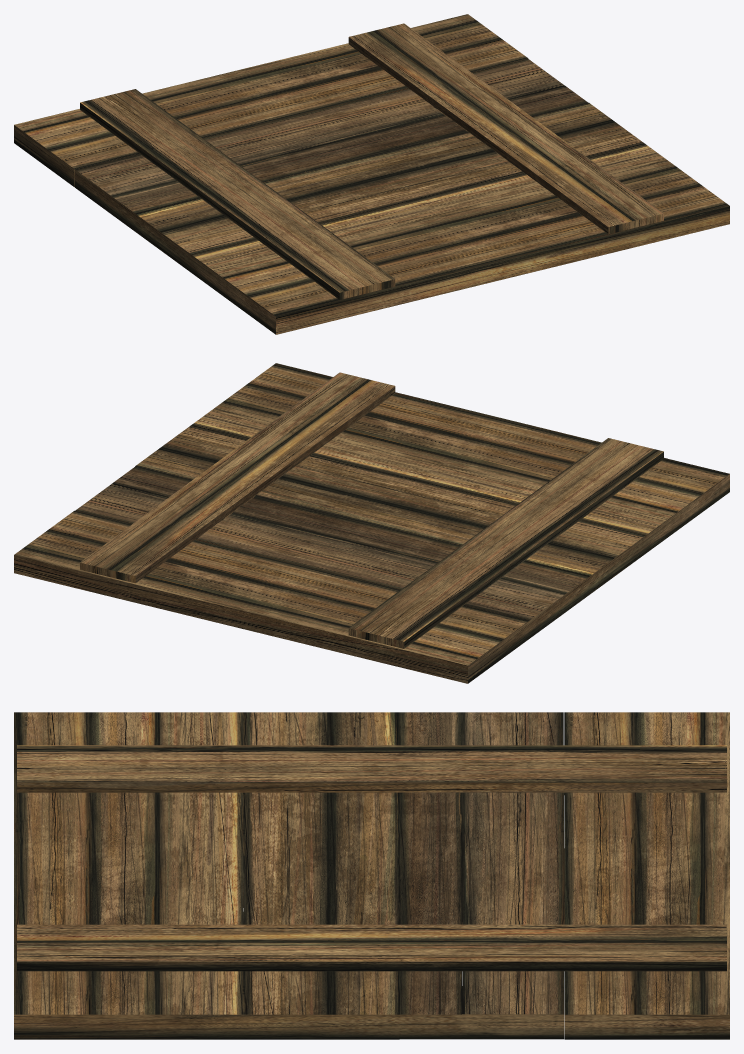
File: WoodenCrate_Top_fragments.FBX
3 renders of one model, top to bottom at view 1: azimuth 30°, elevation 25°; view 2: azimuth 150°, elevation 25°; view 3: azimuth 270°, elevation 25°, orthographic. The views are drawn at different scales.
Parts seen in each view (by area): view 1: LP_Deckel_001_frag_003_frag_004, LP_Deckel_001_frag_001, LP_Deckel_001_frag_002, LP_Deckel_001_frag_003_frag_007, LP_Deckel_001_frag_003_frag_012, LP_Deckel_001_frag_003_frag_010_frag_002, LP_Deckel_001_frag_003_frag_016_frag_002, LP_Deckel_001_frag_003_frag_014_frag_002, LP_Deckel_001_frag_003_frag_011_frag_002, LP_Deckel_001_frag_003_frag_010_frag_001, LP_Deckel_001_frag_003_frag_017_frag_002, LP_Deckel_001_frag_003_frag_003_frag_002 (+6 smaller); view 2: LP_Deckel_001_frag_001, LP_Deckel_001_frag_002, LP_Deckel_001_frag_003_frag_008, LP_Deckel_001_frag_003_frag_004, LP_Deckel_001_frag_003_frag_007, LP_Deckel_001_frag_003_frag_012, LP_Deckel_001_frag_003_frag_010_frag_002, LP_Deckel_001_frag_003_frag_016_frag_002, LP_Deckel_001_frag_003_frag_014_frag_002, LP_Deckel_001_frag_003_frag_011_frag_002, LP_Deckel_001_frag_003_frag_010_frag_001, LP_Deckel_001_frag_003_frag_017_frag_002 (+6 smaller); view 3: LP_Deckel_001_frag_001, LP_Deckel_001_frag_002, LP_Deckel_001_frag_003_frag_004, LP_Deckel_001_frag_003_frag_007, LP_Deckel_001_frag_003_frag_012, LP_Deckel_001_frag_003_frag_010_frag_001, LP_Deckel_001_frag_003_frag_010_frag_002, LP_Deckel_001_frag_003_frag_016_frag_002, LP_Deckel_001_frag_003_frag_014_frag_002, LP_Deckel_001_frag_003_frag_014_frag_001, LP_Deckel_001_frag_003_frag_011_frag_002, LP_Deckel_001_frag_003_frag_016_frag_001 (+6 smaller).
Boxes of the visible parts, bbox=[...] form: LP_Deckel_001_frag_003_frag_004: bbox=[248, 185, 729, 334]; LP_Deckel_001_frag_001: bbox=[76, 89, 399, 301]; LP_Deckel_001_frag_002: bbox=[348, 23, 663, 234]; LP_Deckel_001_frag_003_frag_007: bbox=[24, 21, 502, 168]; LP_Deckel_001_frag_003_frag_012: bbox=[224, 167, 701, 313]; LP_Deckel_001_frag_003_frag_010_frag_002: bbox=[75, 110, 354, 214]; LP_Deckel_001_frag_003_frag_016_frag_002: bbox=[161, 169, 457, 272]; LP_Deckel_001_frag_003_frag_014_frag_002: bbox=[192, 192, 480, 296]; LP_Deckel_001_frag_003_frag_011_frag_002: bbox=[49, 80, 341, 187]; LP_Deckel_001_frag_003_frag_010_frag_001: bbox=[303, 58, 564, 141]; LP_Deckel_001_frag_003_frag_017_frag_002: bbox=[135, 152, 400, 250]; LP_Deckel_001_frag_003_frag_003_frag_002: bbox=[112, 142, 385, 231]; LP_Deckel_001_frag_001: bbox=[344, 438, 667, 650]; LP_Deckel_001_frag_002: bbox=[80, 372, 395, 583]; LP_Deckel_001_frag_003_frag_008: bbox=[14, 547, 477, 683]; LP_Deckel_001_frag_003_frag_004: bbox=[248, 363, 729, 511]; LP_Deckel_001_frag_003_frag_007: bbox=[24, 529, 502, 675]; LP_Deckel_001_frag_003_frag_012: bbox=[224, 384, 701, 529]; LP_Deckel_001_frag_003_frag_010_frag_002: bbox=[275, 539, 565, 638]; LP_Deckel_001_frag_003_frag_016_frag_002: bbox=[349, 473, 645, 575]; LP_Deckel_001_frag_003_frag_014_frag_002: bbox=[390, 451, 677, 553]; LP_Deckel_001_frag_003_frag_011_frag_002: bbox=[215, 560, 528, 657]; LP_Deckel_001_frag_003_frag_010_frag_001: bbox=[75, 483, 340, 562]; LP_Deckel_001_frag_003_frag_017_frag_002: bbox=[338, 499, 614, 594]; LP_Deckel_001_frag_001: bbox=[14, 745, 729, 794]; LP_Deckel_001_frag_002: bbox=[17, 924, 726, 971]; LP_Deckel_001_frag_003_frag_004: bbox=[14, 712, 89, 1039]; LP_Deckel_001_frag_003_frag_007: bbox=[633, 712, 702, 1039]; LP_Deckel_001_frag_003_frag_012: bbox=[91, 712, 156, 1039]; LP_Deckel_001_frag_003_frag_010_frag_001: bbox=[462, 859, 564, 1039]; LP_Deckel_001_frag_003_frag_010_frag_002: bbox=[462, 712, 564, 889]; LP_Deckel_001_frag_003_frag_016_frag_002: bbox=[244, 712, 327, 899]; LP_Deckel_001_frag_003_frag_014_frag_002: bbox=[157, 712, 243, 888]; LP_Deckel_001_frag_003_frag_014_frag_001: bbox=[157, 878, 243, 1039]; LP_Deckel_001_frag_003_frag_011_frag_002: bbox=[564, 712, 634, 904]; LP_Deckel_001_frag_003_frag_016_frag_001: bbox=[243, 872, 327, 1039].
Size of the model in its own units: 130 by 130 by 7.
